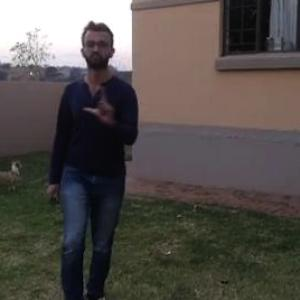land_hand: (83, 80, 121, 126)
